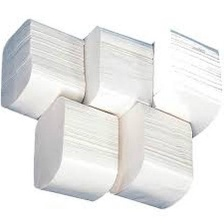tissue: (103, 96, 199, 214), (28, 91, 125, 207), (0, 14, 92, 125), (144, 24, 224, 144), (74, 22, 160, 124)
